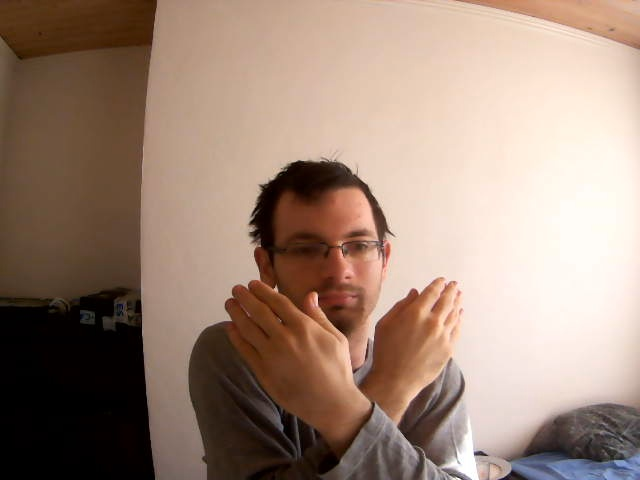butterfly: (223, 278, 466, 426)
